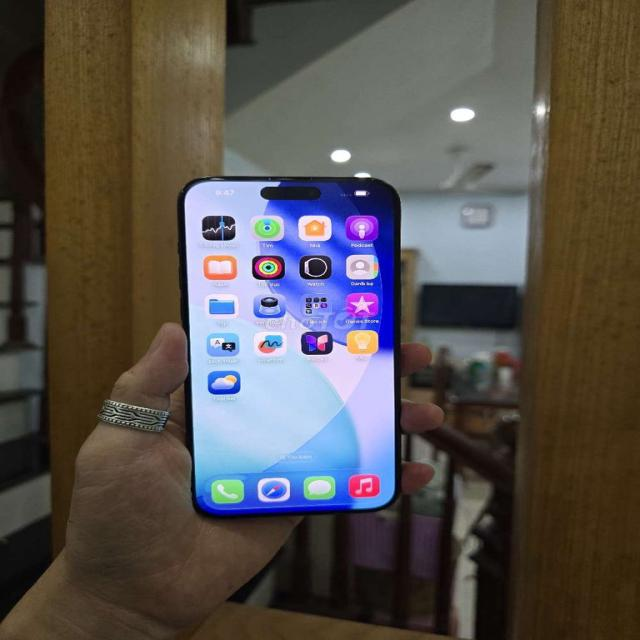gen_12_13: (165, 179, 415, 527)
